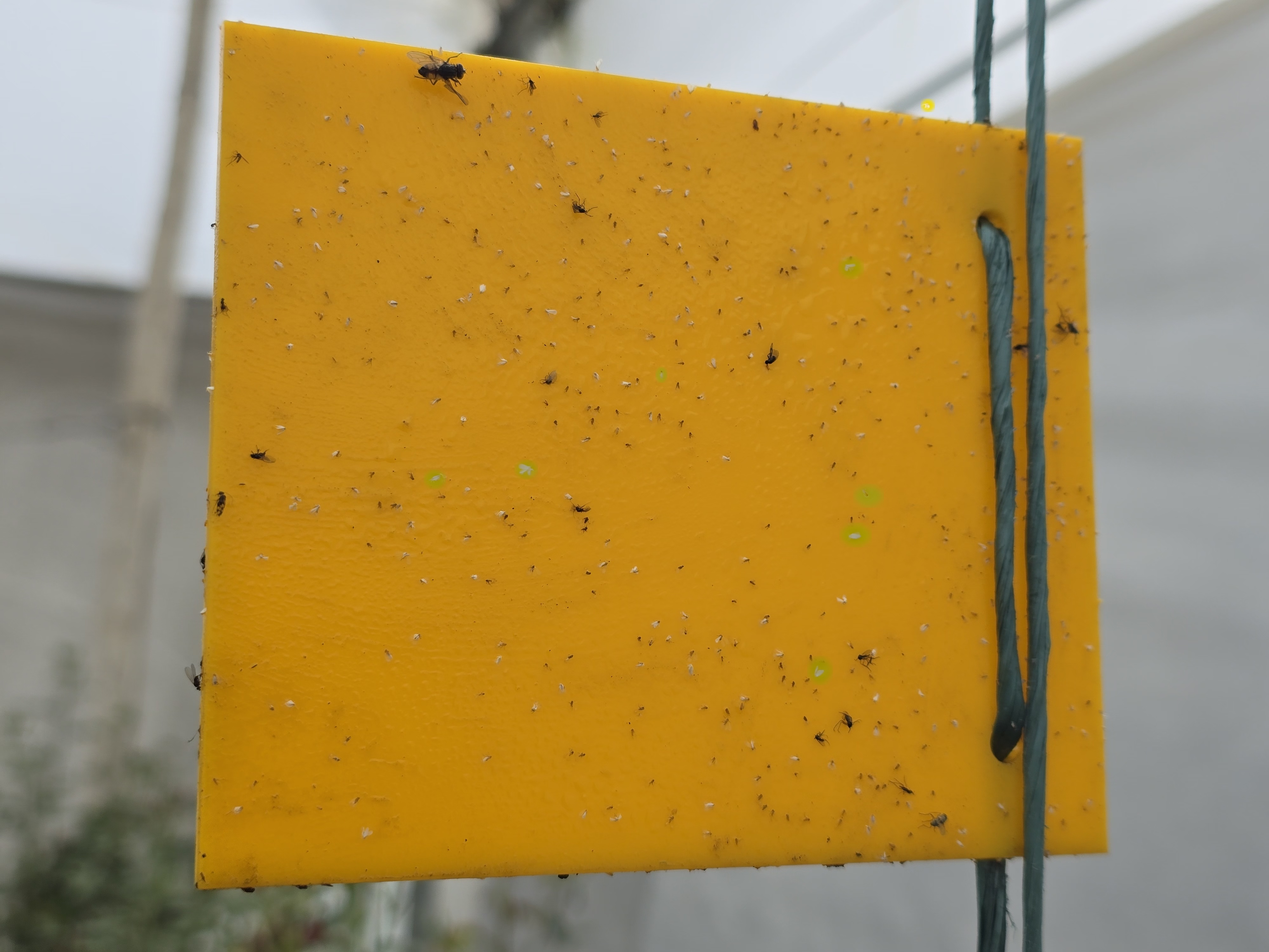WF: (844, 526, 867, 544), (811, 660, 829, 681), (858, 487, 879, 504), (842, 259, 860, 276), (242, 221, 265, 233), (427, 472, 443, 486), (518, 462, 534, 476), (361, 826, 375, 841), (231, 804, 246, 817), (917, 620, 932, 633), (284, 341, 298, 354), (1051, 423, 1065, 436), (287, 501, 300, 514), (686, 83, 699, 96), (311, 241, 323, 255), (308, 205, 319, 220), (255, 553, 271, 563), (273, 260, 286, 272), (262, 281, 276, 292), (607, 814, 624, 823), (543, 309, 558, 319), (286, 698, 298, 710), (498, 357, 510, 369), (978, 542, 990, 554), (686, 664, 697, 677), (1085, 643, 1096, 656), (702, 800, 716, 810), (477, 284, 489, 295), (457, 111, 469, 122), (707, 360, 719, 371), (879, 851, 890, 863), (337, 185, 350, 195), (656, 232, 669, 242), (343, 114, 353, 127), (1056, 135, 1066, 148), (773, 651, 787, 660), (418, 204, 427, 218), (630, 565, 641, 576), (979, 636, 990, 647), (205, 385, 220, 393), (397, 184, 409, 194), (387, 299, 399, 309), (413, 631, 423, 643), (650, 620, 662, 630), (680, 611, 690, 623), (503, 110, 515, 120), (872, 726, 882, 738), (1081, 728, 1091, 740), (836, 597, 849, 606), (336, 213, 345, 226), (276, 424, 286, 435), (198, 607, 209, 617), (560, 190, 571, 200), (356, 123, 367, 133), (249, 296, 260, 306), (1065, 159, 1075, 170), (1065, 142, 1075, 153), (539, 134, 551, 143), (851, 787, 864, 795), (227, 48, 237, 58), (790, 755, 801, 764), (913, 424, 924, 433), (497, 654, 504, 668), (957, 828, 969, 836), (469, 573, 478, 583), (957, 840, 967, 849), (576, 97, 586, 106), (497, 248, 506, 258), (950, 719, 960, 728), (923, 101, 933, 110), (417, 577, 428, 585), (872, 694, 880, 705), (864, 824, 872, 835), (509, 164, 517, 175), (657, 369, 665, 380), (460, 415, 468, 425), (534, 183, 544, 191), (996, 803, 1006, 811), (497, 510, 505, 519), (917, 690, 926, 698), (582, 809, 589, 819), (871, 814, 877, 825), (565, 493, 573, 501), (293, 208, 302, 215), (323, 115, 333, 121), (464, 486, 472, 493)
